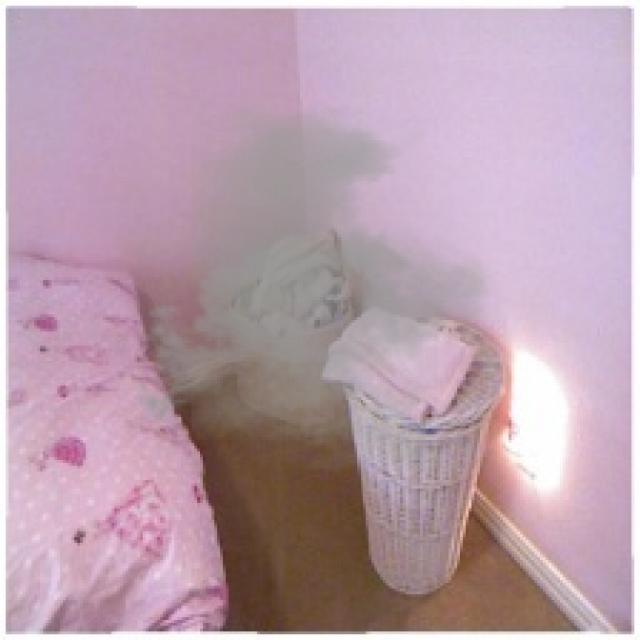smoke: (123, 103, 506, 471)
